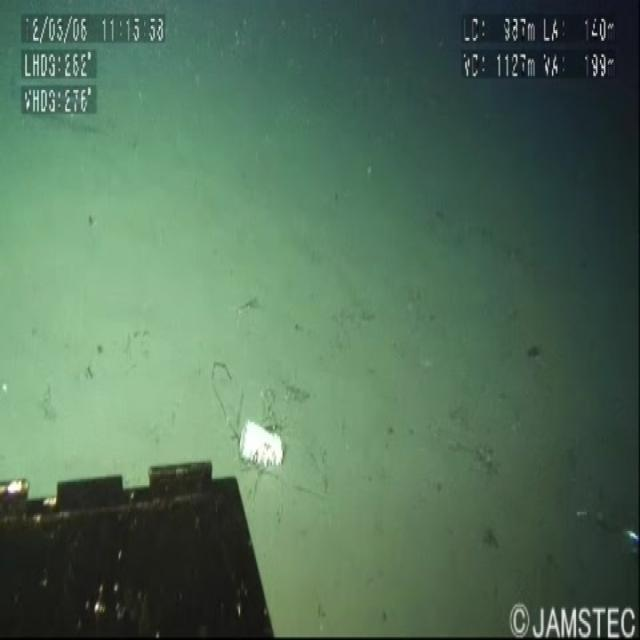Metal: (241, 397, 289, 490)
